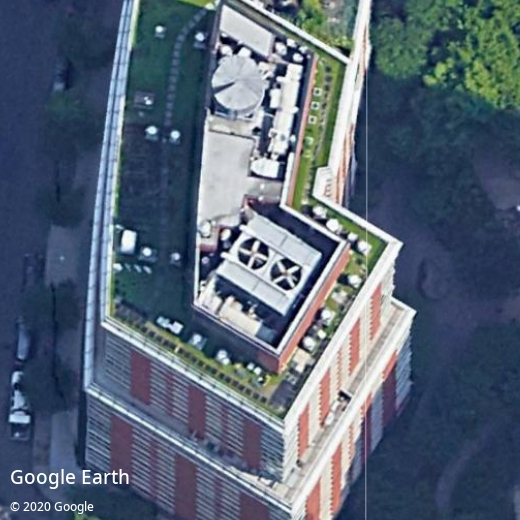Vent: (237, 237, 270, 270), (270, 258, 302, 291)
